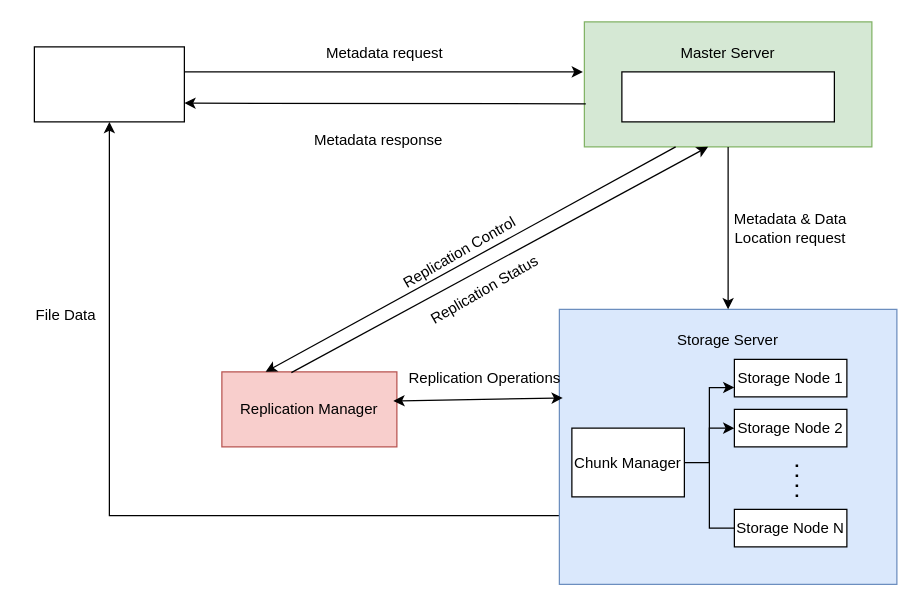
Some shapes in this 919 by 606 pixel diagram are drawn without their labels. Each missing label, with the centre of its shape:
"Client" belongs at (108,84).
"Metadata, file locations, permissions, etc..." belongs at (727,96).
